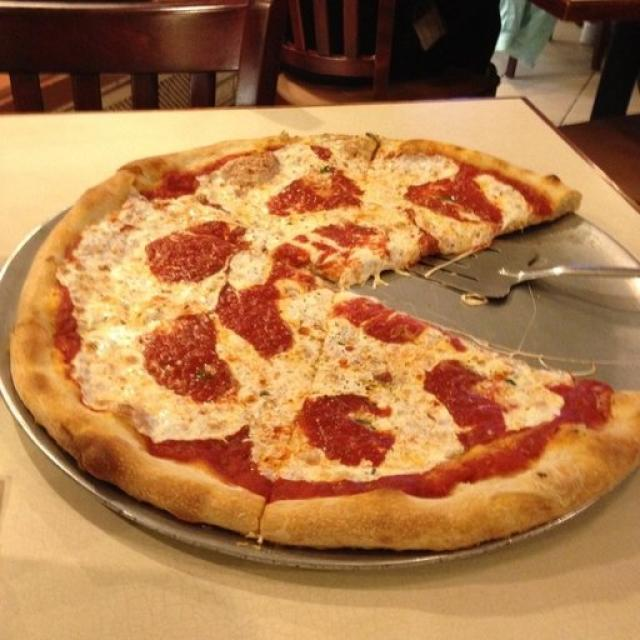Pizza: (11, 134, 640, 549)
